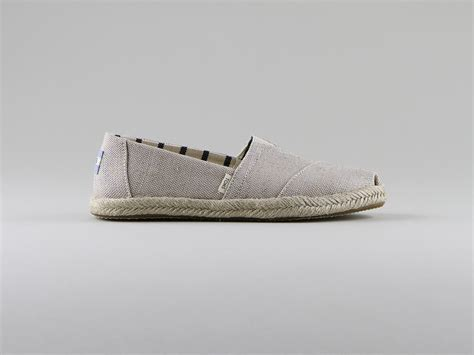nylon: (90, 131, 380, 199)
